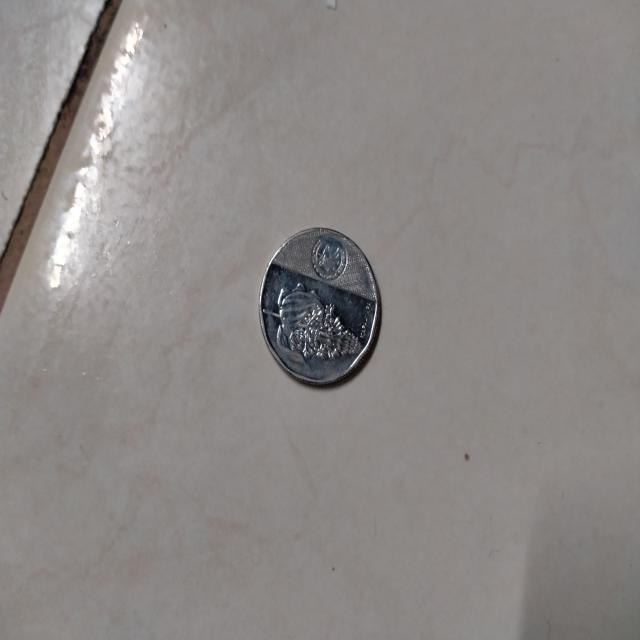10_New_Back: (272, 236, 367, 370)
